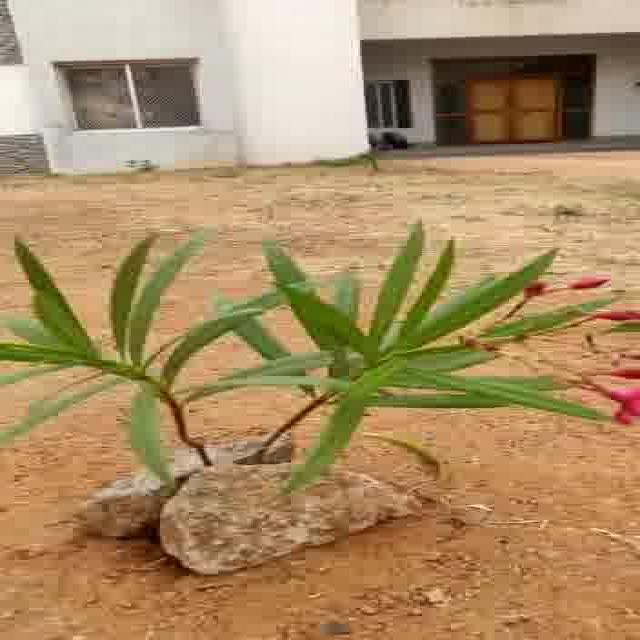Oleander: (0, 214, 607, 444)
